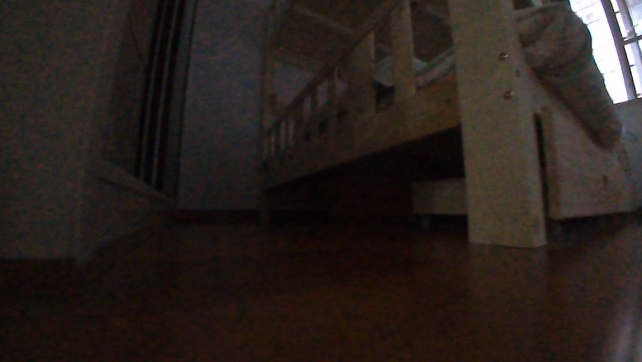bed1: (244, 0, 640, 253)
